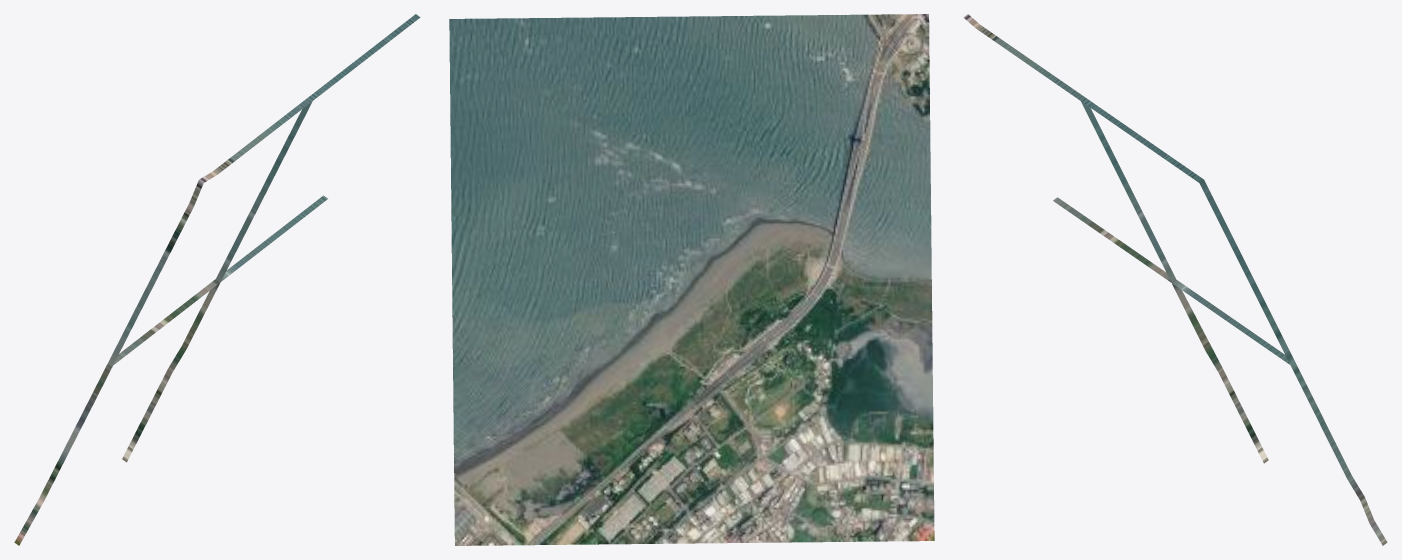
3 renders of one model, left to right at view 1: azimuth 30°, elevation 25°; view 2: azimuth 150°, elevation 25°; view 3: azimuth 270°, elevation 25°, orthographic. The views are drawn at different scales.
Size of the model in its own units: 2451 by 2217 by 2062.
Materials: 1 (1 with a texture image).
